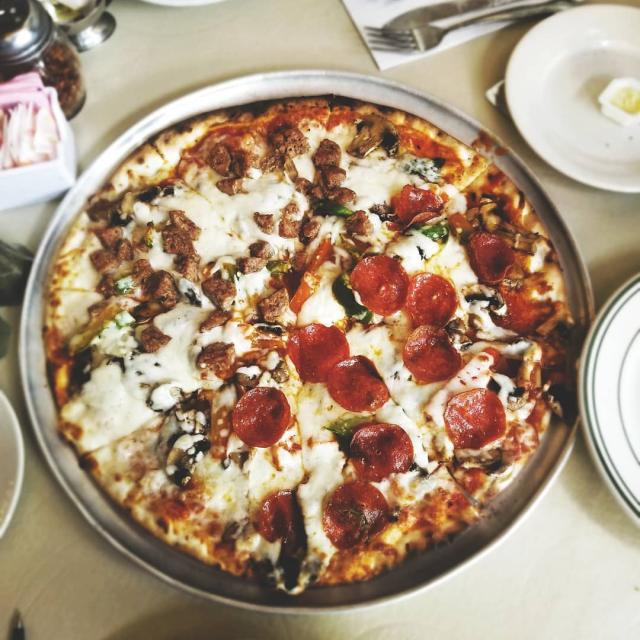mushrooms: (475, 204, 547, 256), (163, 432, 210, 487), (348, 114, 403, 159), (157, 412, 203, 461), (109, 183, 160, 226), (452, 446, 508, 473), (493, 384, 537, 412), (463, 284, 505, 313)
pepperoni: (321, 479, 391, 553), (285, 321, 352, 385), (445, 388, 507, 452), (230, 386, 292, 450), (352, 420, 415, 482), (327, 353, 390, 414), (403, 322, 463, 386), (349, 254, 413, 314), (408, 272, 460, 330), (256, 488, 302, 546), (468, 234, 514, 284), (394, 184, 446, 228), (491, 288, 542, 328)
pizza: (43, 98, 586, 597)
